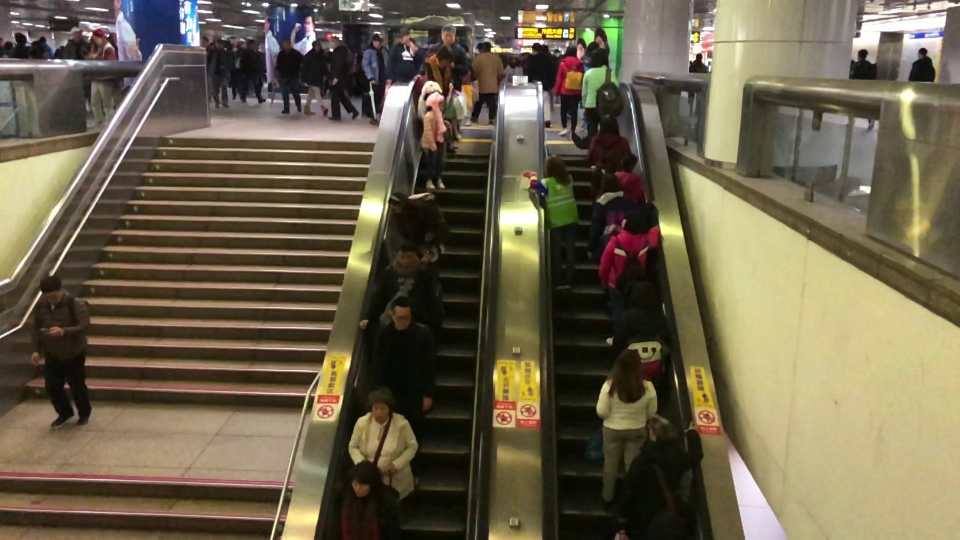person_head: (350, 459, 382, 497), (368, 386, 396, 420), (389, 295, 414, 330), (38, 275, 66, 303), (629, 281, 657, 308), (616, 348, 641, 377), (647, 419, 678, 442), (394, 242, 420, 267), (542, 154, 566, 176), (619, 211, 644, 232), (597, 114, 619, 134), (600, 173, 622, 193), (388, 191, 407, 214), (590, 47, 610, 66), (620, 153, 639, 172), (441, 23, 457, 43), (435, 50, 451, 67), (91, 29, 104, 45), (477, 41, 493, 53), (397, 30, 411, 43), (586, 40, 600, 53), (13, 32, 27, 44), (566, 43, 577, 56), (857, 48, 868, 61), (372, 35, 383, 47), (531, 42, 543, 53), (917, 47, 929, 58), (335, 35, 346, 46), (72, 28, 82, 39), (282, 38, 291, 48), (313, 40, 322, 50), (215, 39, 223, 48), (695, 52, 703, 61), (511, 56, 516, 63)
person_vbox: (372, 294, 438, 488), (594, 348, 658, 512), (621, 418, 704, 540), (29, 275, 93, 428), (597, 211, 661, 345), (347, 386, 419, 501), (522, 153, 579, 291), (358, 242, 442, 330), (586, 172, 658, 262), (612, 280, 672, 380), (332, 459, 400, 540), (387, 190, 448, 267), (585, 113, 634, 194), (580, 46, 625, 128), (416, 86, 448, 191), (83, 29, 117, 124), (552, 43, 584, 138), (327, 35, 361, 121), (470, 41, 503, 125), (361, 34, 391, 122), (526, 43, 555, 128), (846, 48, 876, 129), (302, 39, 330, 116), (274, 38, 302, 114), (386, 30, 422, 83), (206, 39, 233, 108), (239, 38, 267, 104), (413, 49, 452, 92), (580, 40, 599, 128), (439, 24, 471, 76), (613, 153, 646, 201), (688, 52, 707, 116), (907, 47, 935, 82), (61, 28, 90, 59), (8, 32, 36, 59), (504, 55, 522, 79), (246, 38, 255, 50)
